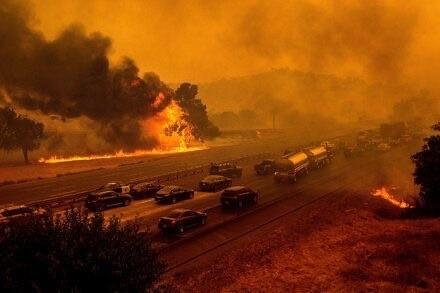fire: (38, 145, 163, 169), (155, 96, 202, 155), (370, 183, 418, 209)
smoke: (0, 3, 150, 132)
